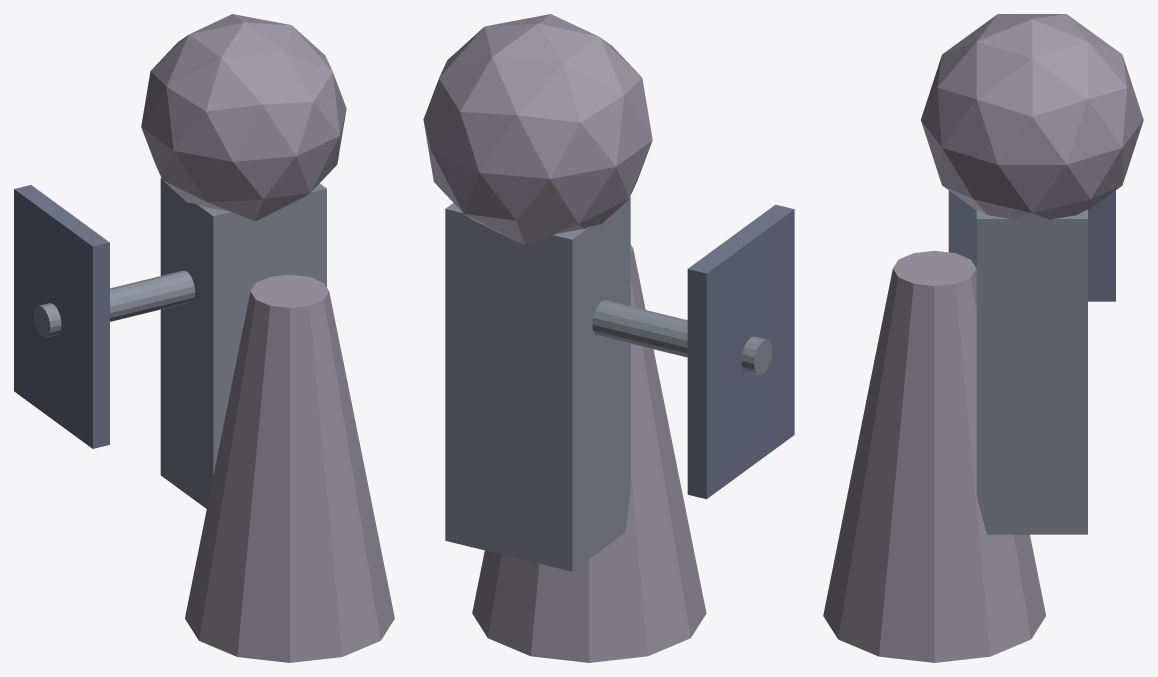
Rendered from veil-vanguard.glb.
3 views of the same model, side by side, from view 1: azimuth 30°, elevation 25°; view 2: azimuth 150°, elevation 25°; view 3: azimuth 270°, elevation 25° (orthographic). The views are drawn at different scales.
Parts seen in each view (by area): view 1: vanguard-veil-cape, vanguard-head, vanguard-body, vanguard-shield, vanguard-shield-arm; view 2: vanguard-body, vanguard-head, vanguard-veil-cape, vanguard-shield, vanguard-shield-arm; view 3: vanguard-veil-cape, vanguard-head, vanguard-body, vanguard-shield.
Boxes of the visible parts, box(x1,y1,x2,y2) form: vanguard-veil-cape: box(185, 274, 394, 662); vanguard-head: box(141, 14, 346, 221); vanguard-body: box(160, 178, 326, 508); vanguard-shield: box(14, 185, 109, 448); vanguard-shield-arm: box(34, 270, 195, 337); vanguard-body: box(445, 196, 630, 571); vanguard-head: box(423, 14, 652, 245); vanguard-veil-cape: box(472, 244, 706, 662); vanguard-shield: box(687, 204, 794, 499); vanguard-shield-arm: box(592, 300, 772, 375); vanguard-veil-cape: box(823, 250, 1045, 662); vanguard-head: box(921, 14, 1143, 219); vanguard-body: box(976, 209, 1087, 534); vanguard-shield: box(948, 190, 1115, 301).
Size of the model in its own units: 0.515 by 0.945 by 0.46.
